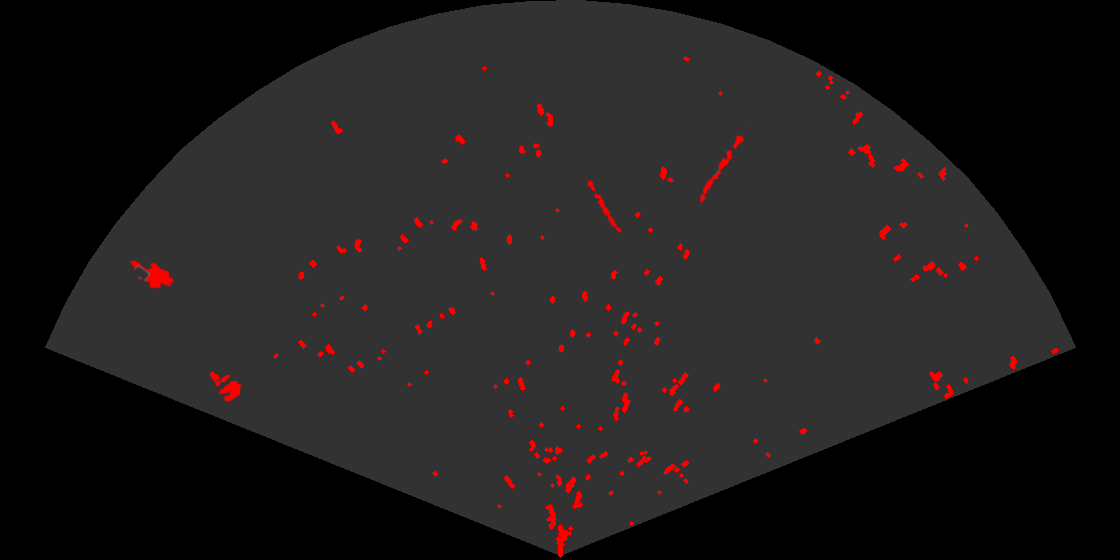AUV: (129, 258, 175, 291)
ball: (214, 373, 243, 403)
chain: (698, 125, 749, 204), (583, 176, 625, 240)
